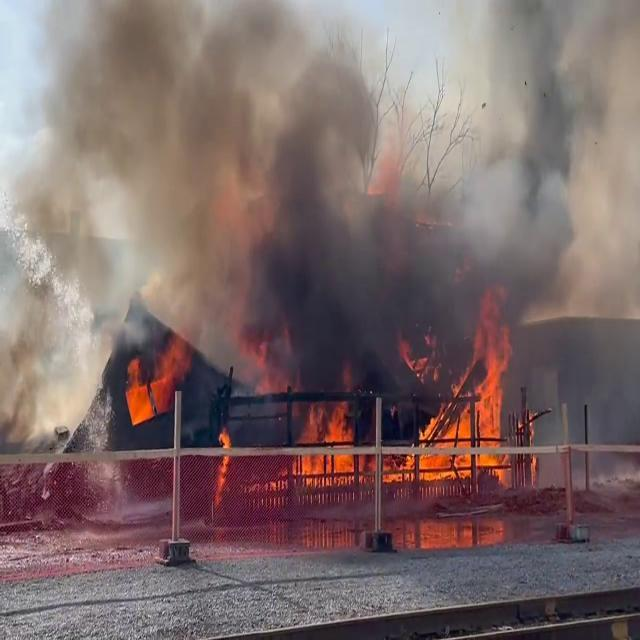Fire: (404, 331, 521, 488), (293, 397, 357, 499), (122, 339, 189, 429), (208, 427, 233, 508)
Smoke: (2, 0, 640, 370)
